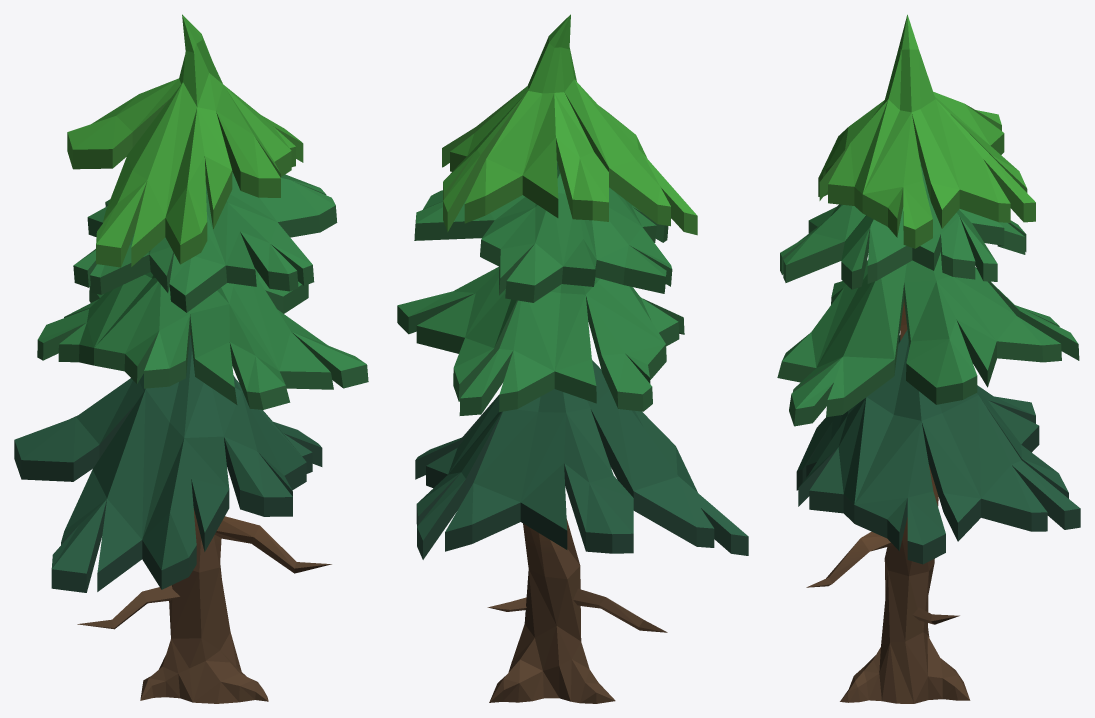
Rendered from um_tree003.FBX.
3 views of the same model, side by side, from view 1: azimuth 30°, elevation 25°; view 2: azimuth 150°, elevation 25°; view 3: azimuth 270°, elevation 25° (orthographic). The views are drawn at different scales.
Visible parts, largest first — view 1: um_tree003; view 2: um_tree003; view 3: um_tree003.
Part boxes in pixels (box(x1,y1,x2,y2)): um_tree003: box(14, 14, 368, 703); um_tree003: box(397, 14, 748, 703); um_tree003: box(777, 14, 1080, 703).
Bounding box in the file's own units: 2.2 × 4.74 × 1.97.
